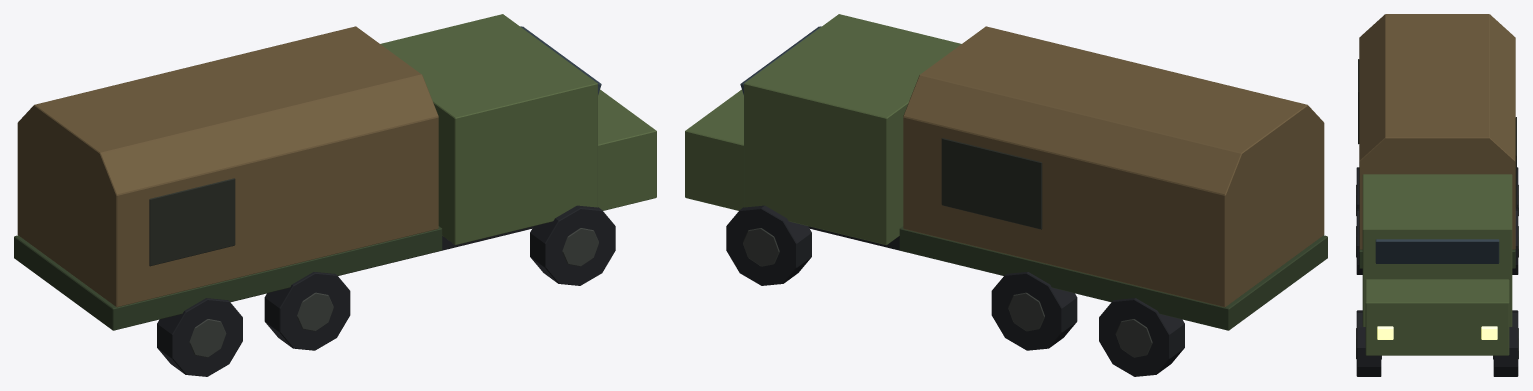
Rendered from lastbil.glb.
3 renders of one model, left to right at view 1: azimuth 30°, elevation 25°; view 2: azimuth 150°, elevation 25°; view 3: azimuth 270°, elevation 25°, orthographic. The views are drawn at different scales.
Visible parts, largest first — view 1: lastbil; view 2: lastbil; view 3: lastbil.
Boxes of the visible parts, <box> form: lastbil: <box>14,14,656,376</box>; lastbil: <box>685,14,1327,376</box>; lastbil: <box>1356,14,1518,376</box>.
Size of the model in its own units: 7.72 by 3.1 by 2.5.
